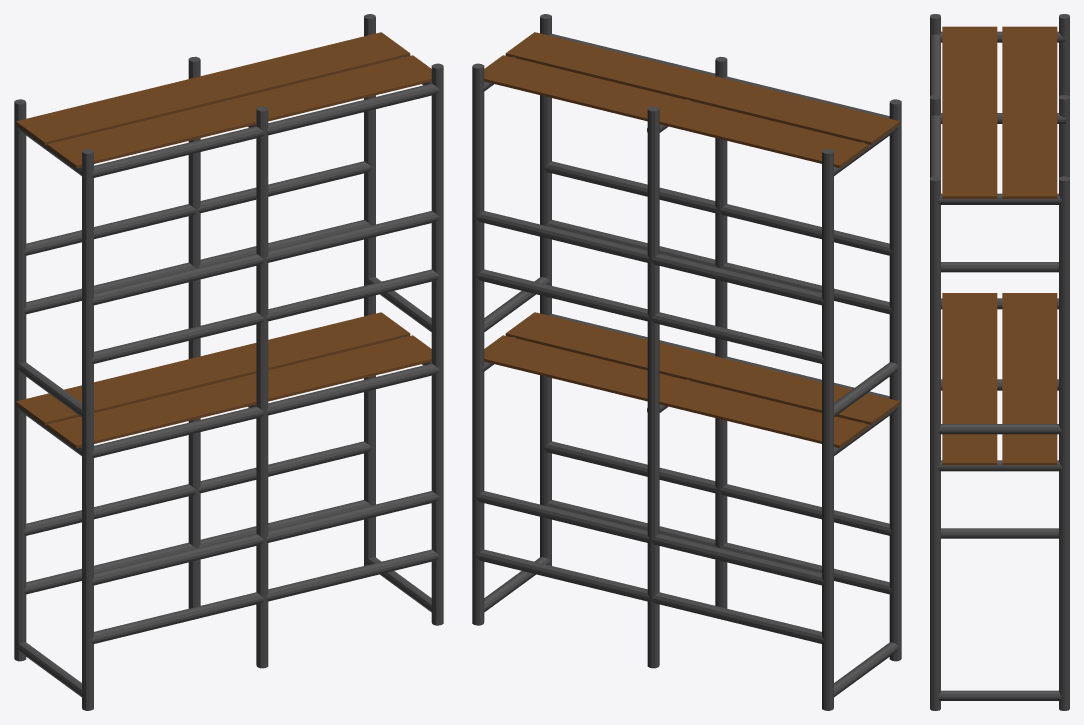
The picture shows the model from 3 angles, left to right: view 1: azimuth 30°, elevation 25°; view 2: azimuth 150°, elevation 25°; view 3: azimuth 270°, elevation 25°; orthographic projection. The views are drawn at different scales.
Parts seen in each view (by area): view 1: I-45; view 2: I-45; view 3: I-45.
Boxes of the visible parts, x1,y1,x2,y2 form: I-45: (14, 14, 443, 710); I-45: (472, 14, 901, 710); I-45: (930, 14, 1069, 710).
Size of the model in its own units: 787 by 1146 by 274.
